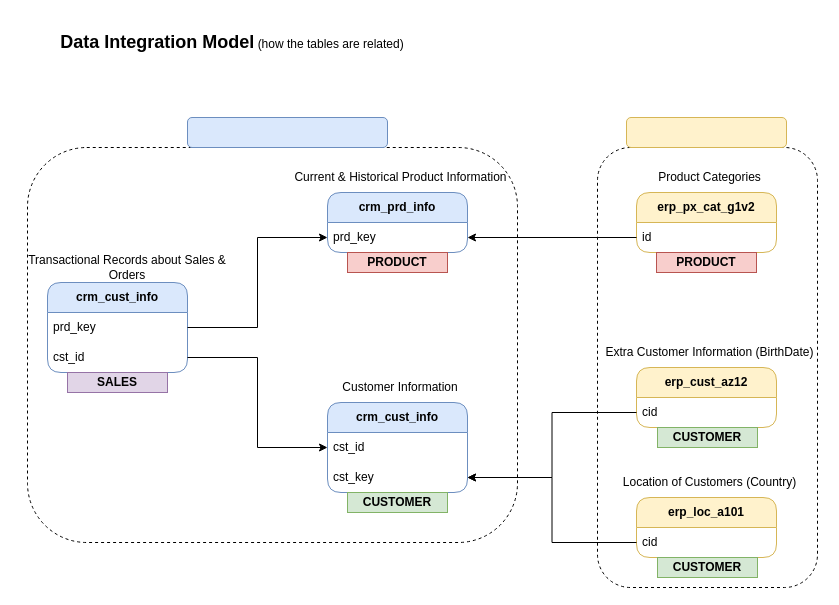
The diagram is 839 pixels wide and 605 high, and some of its shapes have lost their labels. Each missing label, with the centre of its shape:
CRM: [287,132]
ERP: [706,132]
